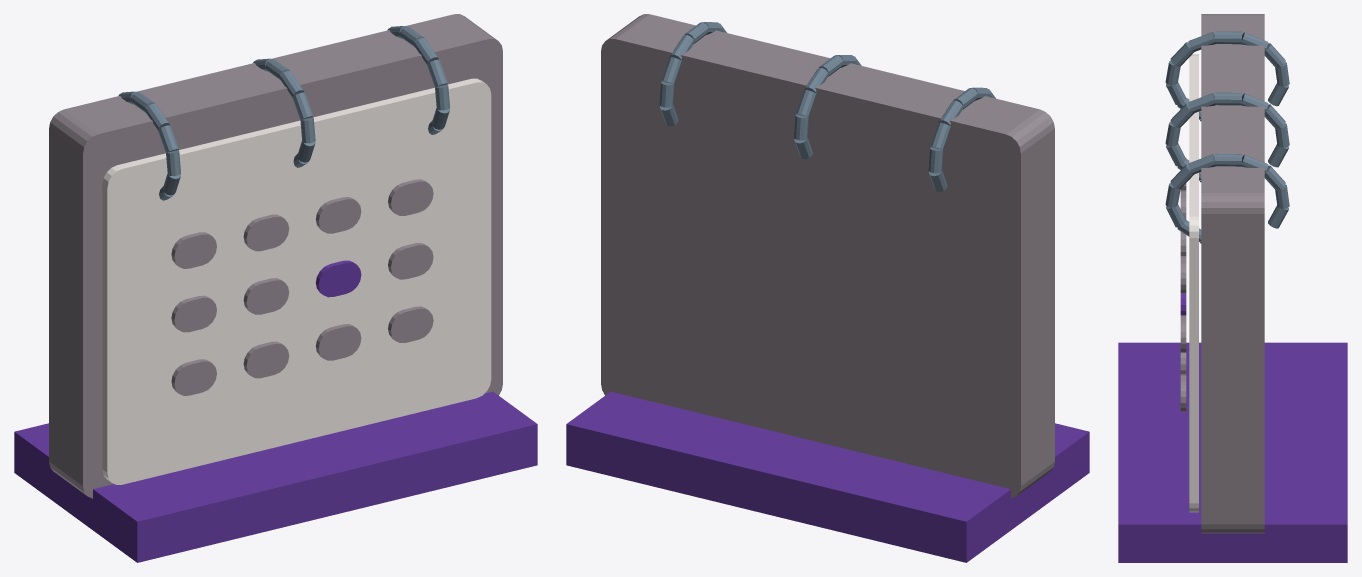
The model's file is deskcalendar.glb.
3 renders of one model, left to right at view 1: azimuth 30°, elevation 25°; view 2: azimuth 150°, elevation 25°; view 3: azimuth 270°, elevation 25°, orthographic. The views are drawn at different scales.
Parts seen in each view (by area): view 1: calendar page, binding board, rear foot, day 1, day 9, day 4, marked date, day 3, day 5, day 11, day 0, day 7 (+3 smaller); view 2: binding board, rear foot; view 3: rear foot, binding board, calendar page, loop16, loop06, loop26, loop15, loop25, loop05, loop04, loop14, loop24 (+3 smaller).
Part boxes in pixels (left/top/right/bottom): calendar page: left=102, top=78, right=491, bottom=484; binding board: left=49, top=14, right=502, bottom=498; rear foot: left=14, top=391, right=537, bottom=562; day 1: left=243, top=214, right=289, bottom=251; day 9: left=243, top=341, right=289, bottom=378; day 4: left=171, top=295, right=216, bottom=332; marked date: left=316, top=260, right=361, bottom=297; day 3: left=388, top=179, right=433, bottom=215; day 5: left=243, top=278, right=289, bottom=314; day 11: left=388, top=306, right=433, bottom=342; day 0: left=171, top=232, right=216, bottom=268; day 7: left=388, top=243, right=433, bottom=279; binding board: left=601, top=14, right=1054, bottom=498; rear foot: left=566, top=391, right=1089, bottom=562; rear foot: left=1118, top=342, right=1347, bottom=562; binding board: left=1201, top=14, right=1264, bottom=533; calendar page: left=1189, top=54, right=1198, bottom=512; loop16: left=1215, top=92, right=1241, bottom=105; loop06: left=1215, top=31, right=1241, bottom=44; loop26: left=1215, top=153, right=1241, bottom=166; loop15: left=1188, top=93, right=1215, bottom=113; loop25: left=1188, top=154, right=1215, bottom=174; loop05: left=1188, top=32, right=1215, bottom=52; loop04: left=1170, top=42, right=1193, bottom=66; loop14: left=1170, top=103, right=1193, bottom=127; loop24: left=1170, top=164, right=1193, bottom=188.
Size of the model in its own units: 1.28 by 1.18 by 0.65.
